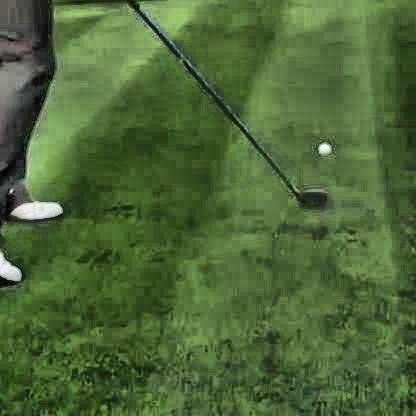golfball: (314, 140, 329, 156)
